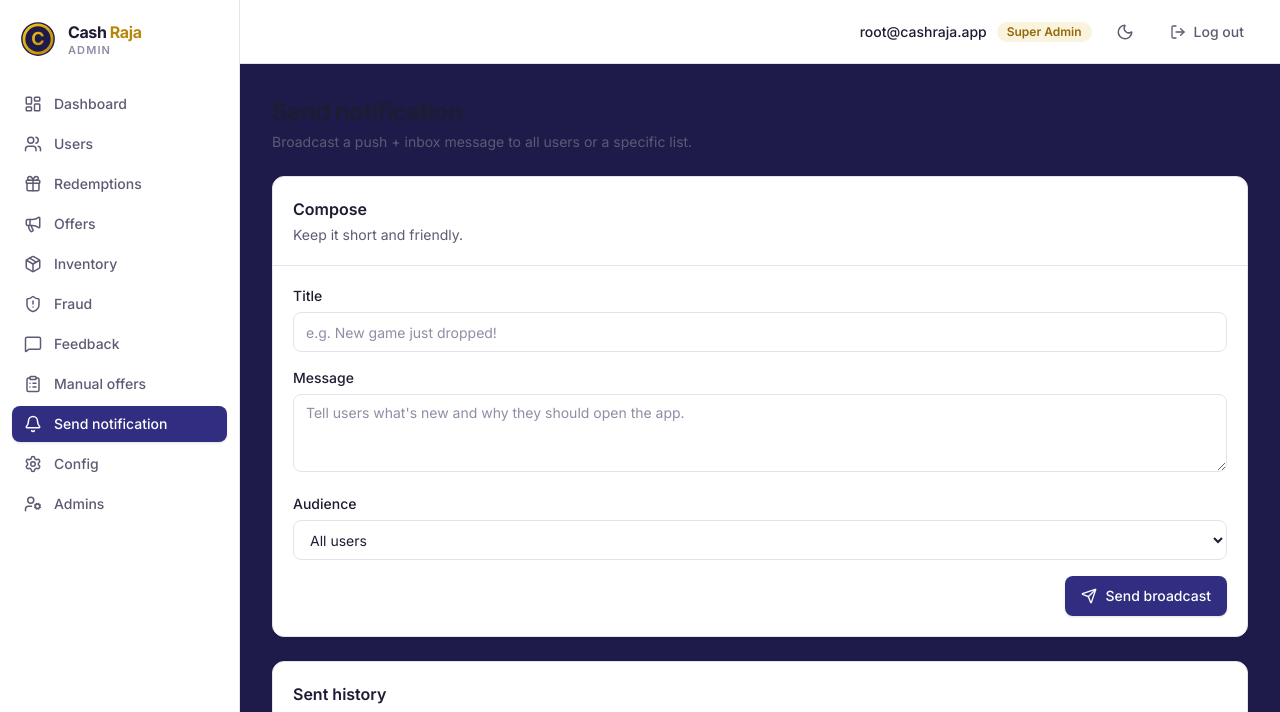
Test: Send notification screen › validates title and message before sending
The width and height of the screenshot is (1280, 712).
Click the button "Send broadcast" at (1146, 596), box left=1066, top=576, right=1227, bottom=616
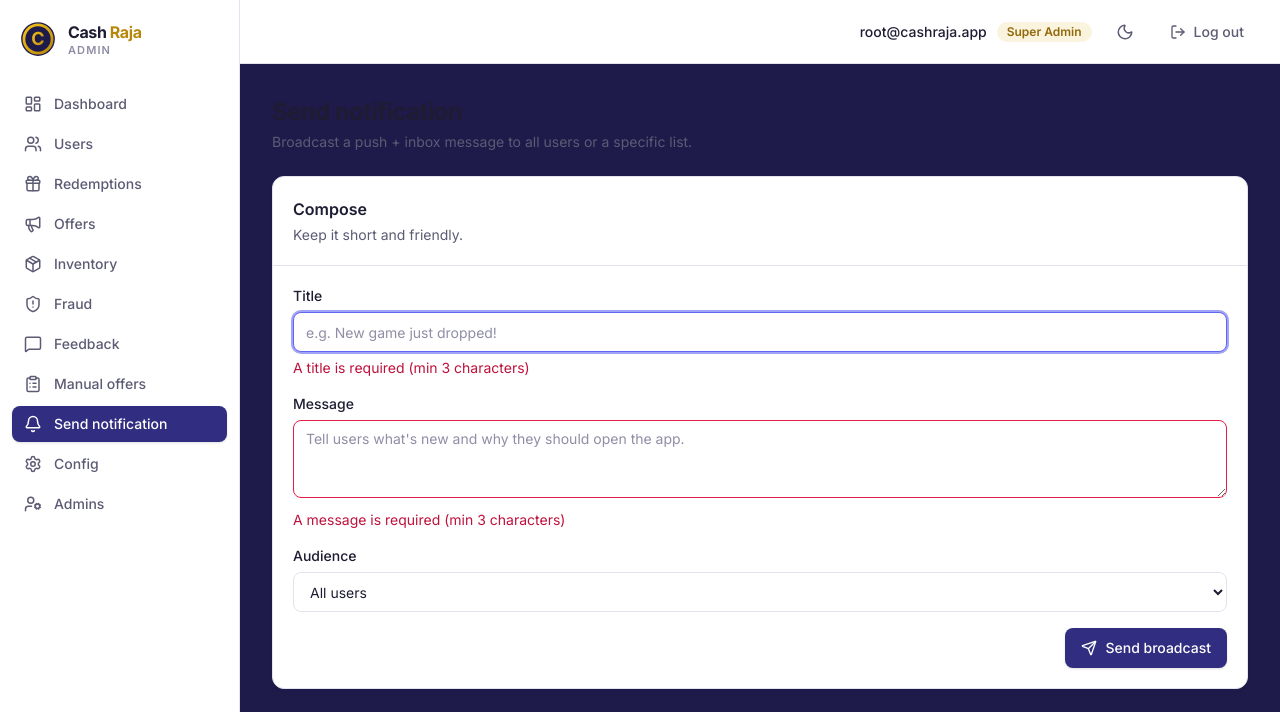
Expected: the text "A title is required (min 3 characters)" is shown, left=293, top=359, right=530, bottom=376
Expected: the text "A message is required (min 3 characters)" is shown, left=293, top=511, right=565, bottom=528
